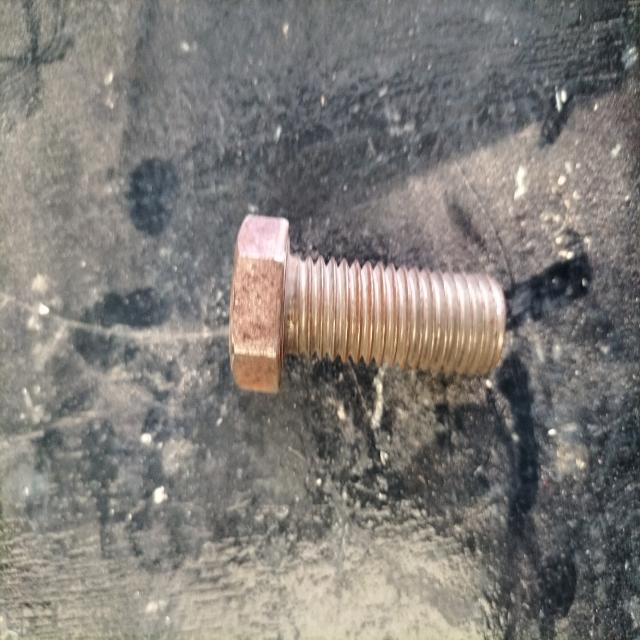bolt: (229, 213, 504, 395)
